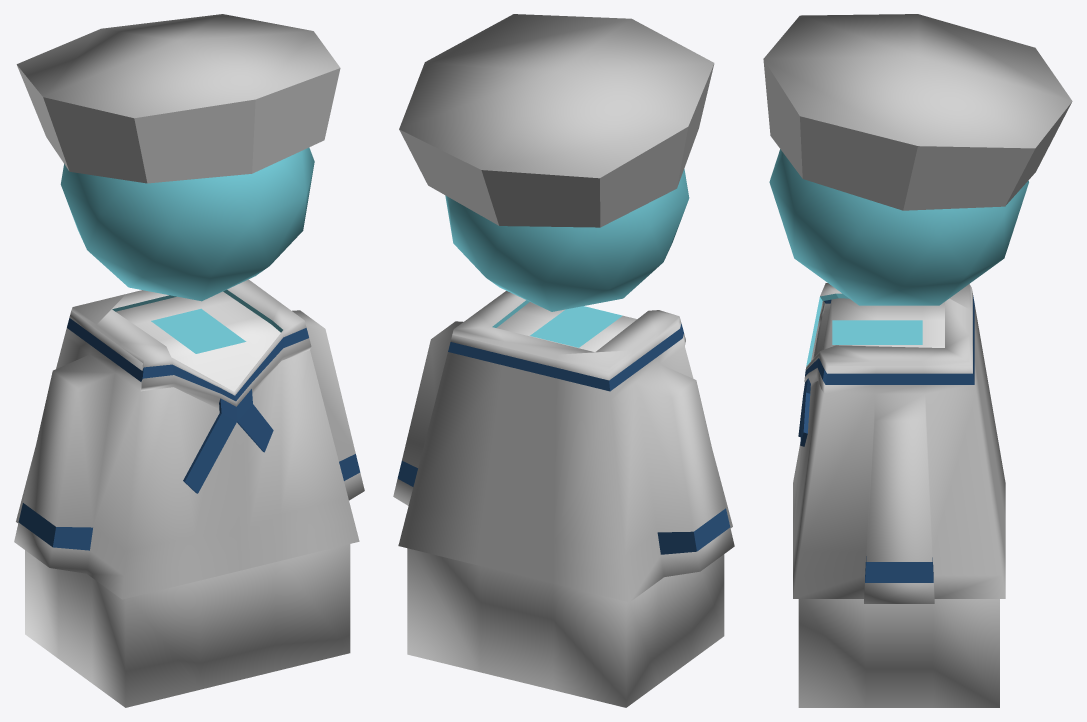
Rendered from sailor.glb.
The picture shows the model from 3 angles, left to right: view 1: azimuth 30°, elevation 25°; view 2: azimuth 150°, elevation 25°; view 3: azimuth 270°, elevation 25°; orthographic projection. The views are drawn at different scales.
Visible parts, largest first — view 1: Navigator; view 2: Navigator; view 3: Navigator.
Boxes of the visible parts, x1=… form: Navigator: x1=14, y1=14, x2=364, y2=707; Navigator: x1=393, y1=14, x2=734, y2=707; Navigator: x1=763, y1=14, x2=1072, y2=707.
Size of the model in its own units: 0.8414 by 1.52 by 0.714.
